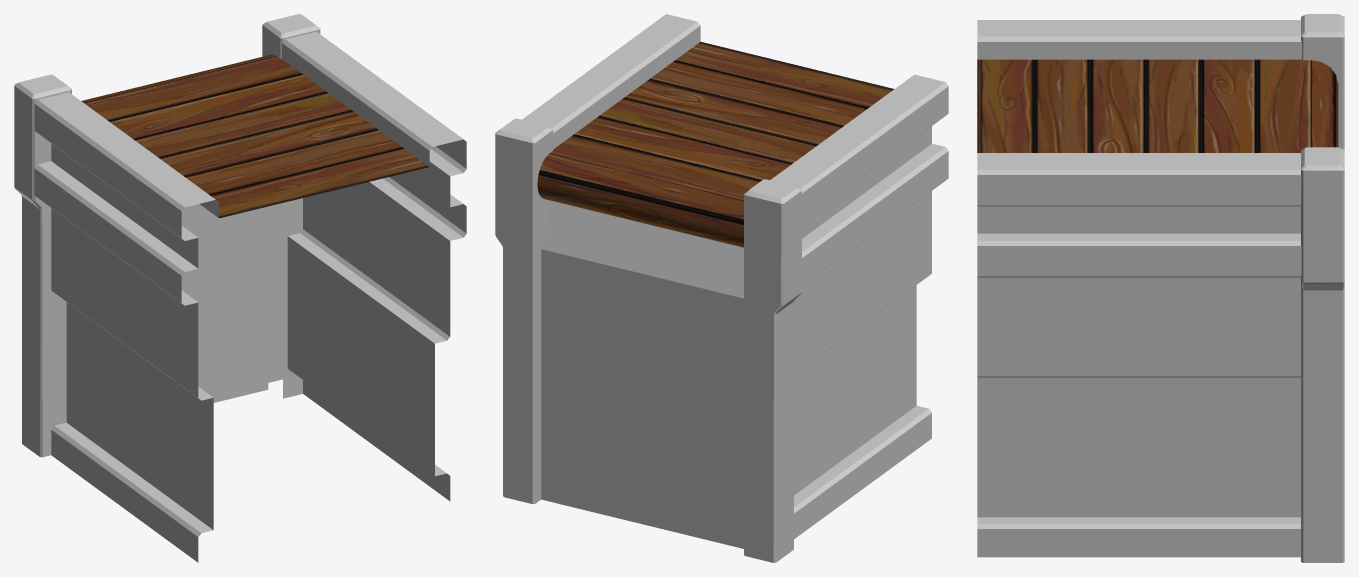
File: Treadmill_Start.fbx
3 renders of one model, left to right at view 1: azimuth 30°, elevation 25°; view 2: azimuth 150°, elevation 25°; view 3: azimuth 270°, elevation 25°, orthographic. The views are drawn at different scales.
Visible parts, largest first — view 1: Treadmill_Start; view 2: Treadmill_Start; view 3: Treadmill_Start.
Part boxes in pixels (x1=…): Treadmill_Start: x1=14, y1=14, x2=466, y2=562; Treadmill_Start: x1=495, y1=14, x2=948, y2=562; Treadmill_Start: x1=977, y1=14, x2=1344, y2=562.
Size of the model in its own units: 0.548 by 0.6602 by 0.5497.
